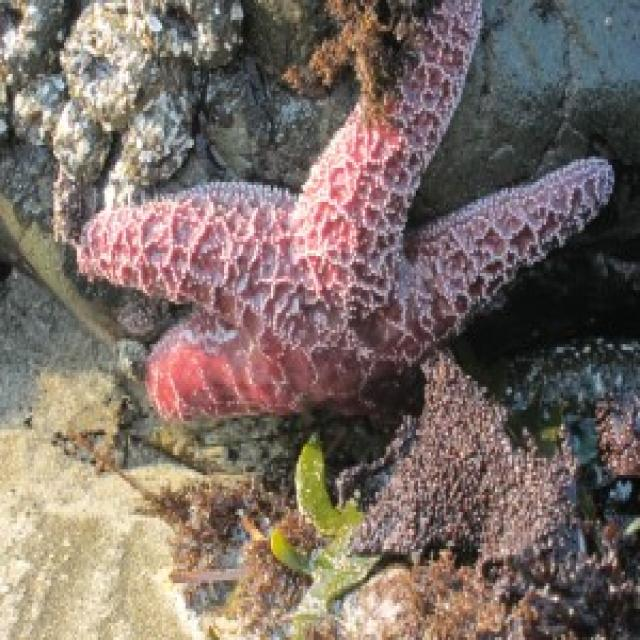Starfish: (78, 3, 621, 423)
